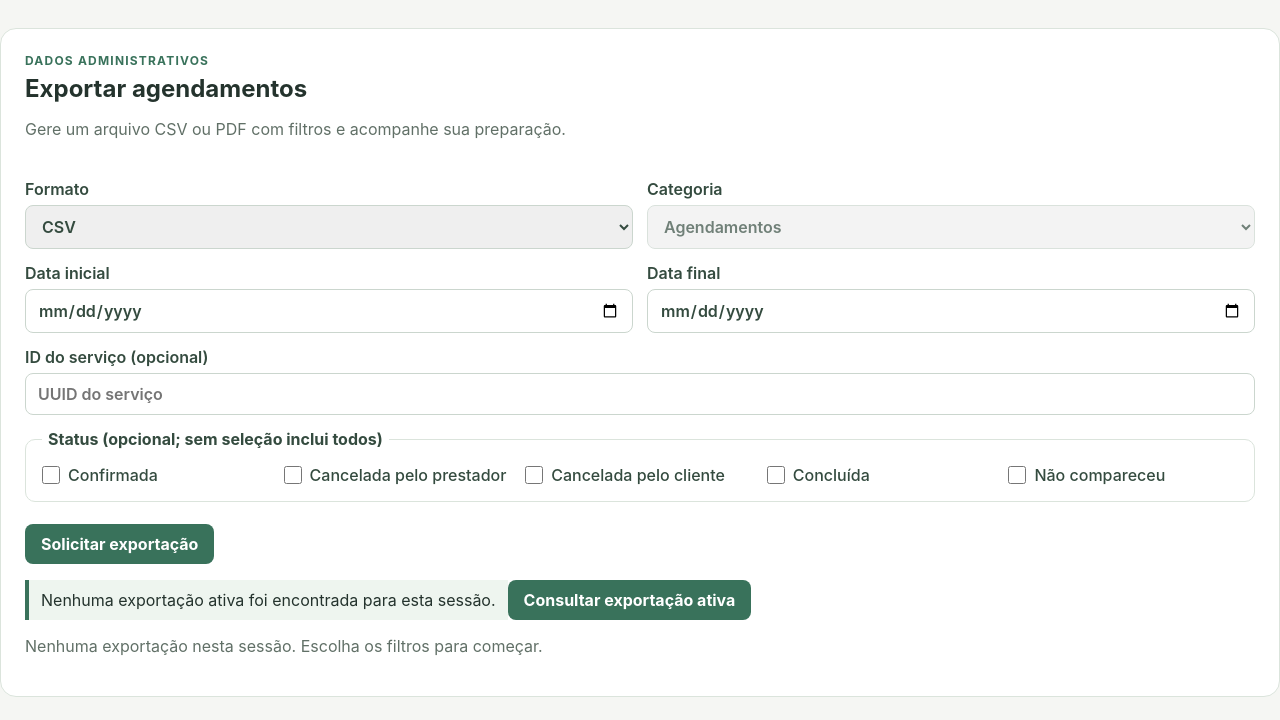
Scenario: ExportCenter DOM interactions › does not create another request when /active returns 204 after an active-job conflict
Type "2026-10-01" into the date field labelled "Data inicial" at (329, 311), box x1=25 y1=289 x2=633 y2=333
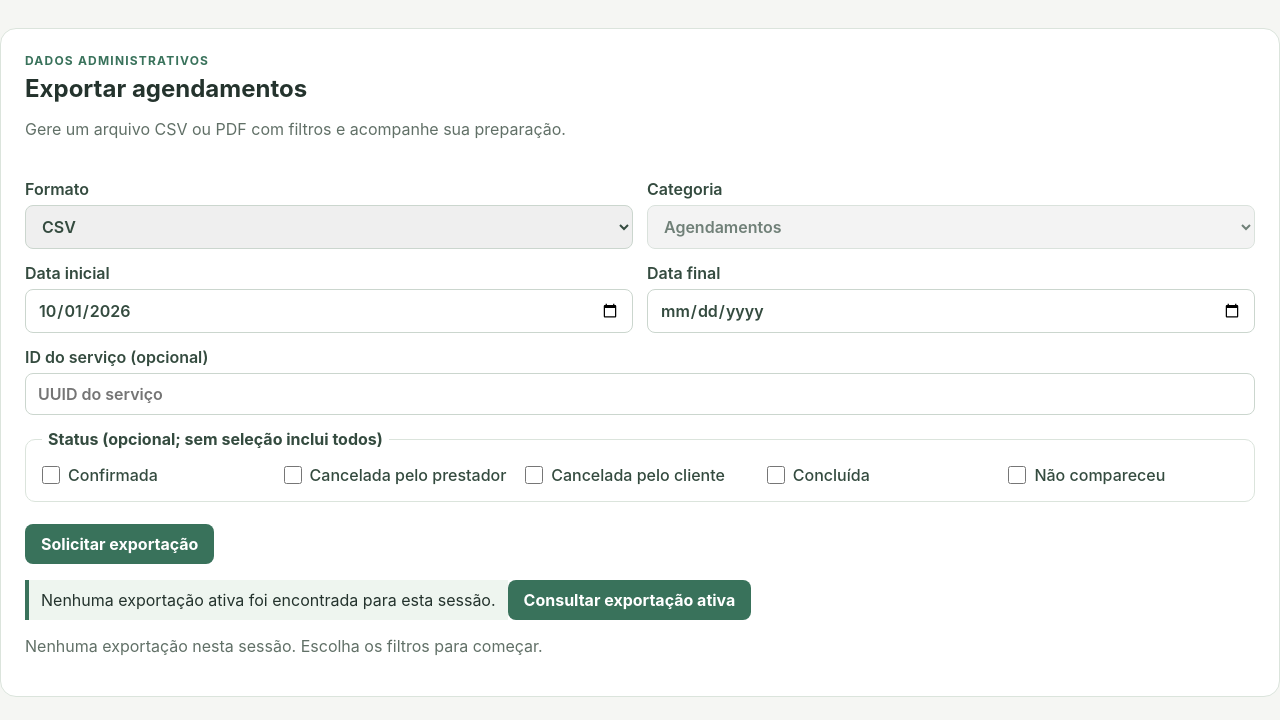
Type "2026-10-23" into the date field labelled "Data final" at (951, 311), box x1=647 y1=289 x2=1255 y2=333
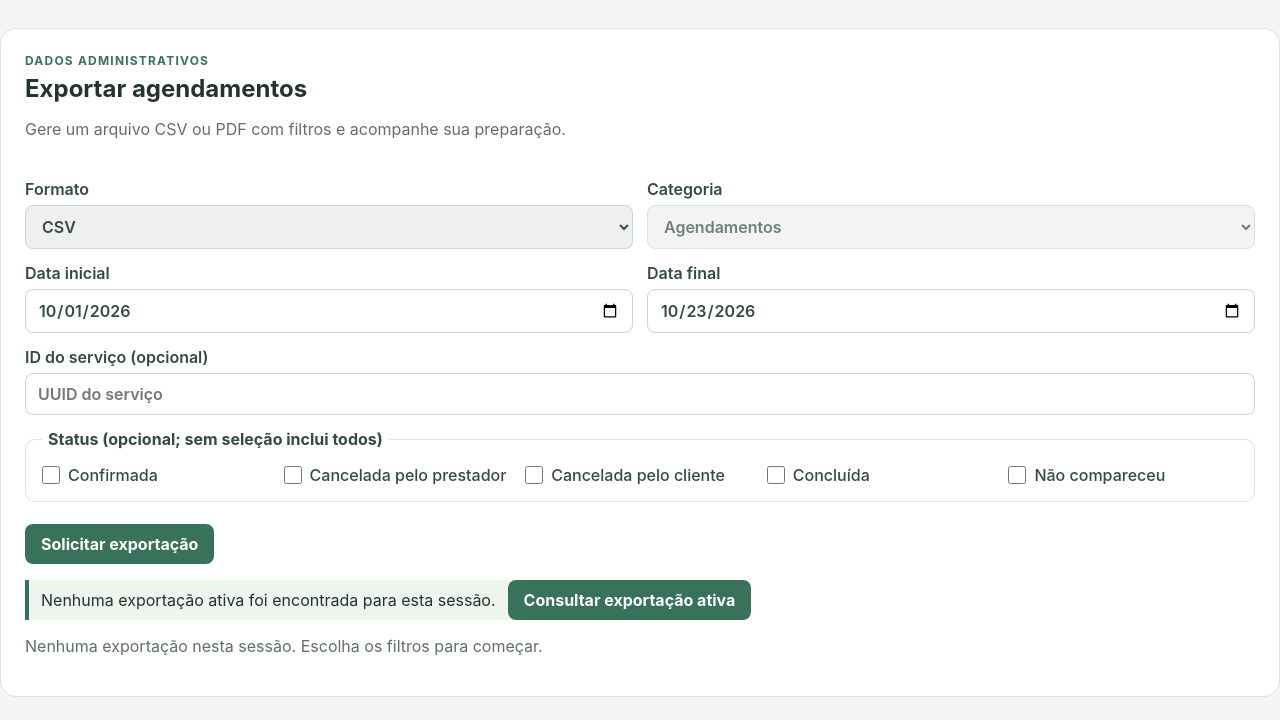
Click the button "Solicitar exportação" at (120, 544), box x1=25 y1=524 x2=214 y2=564
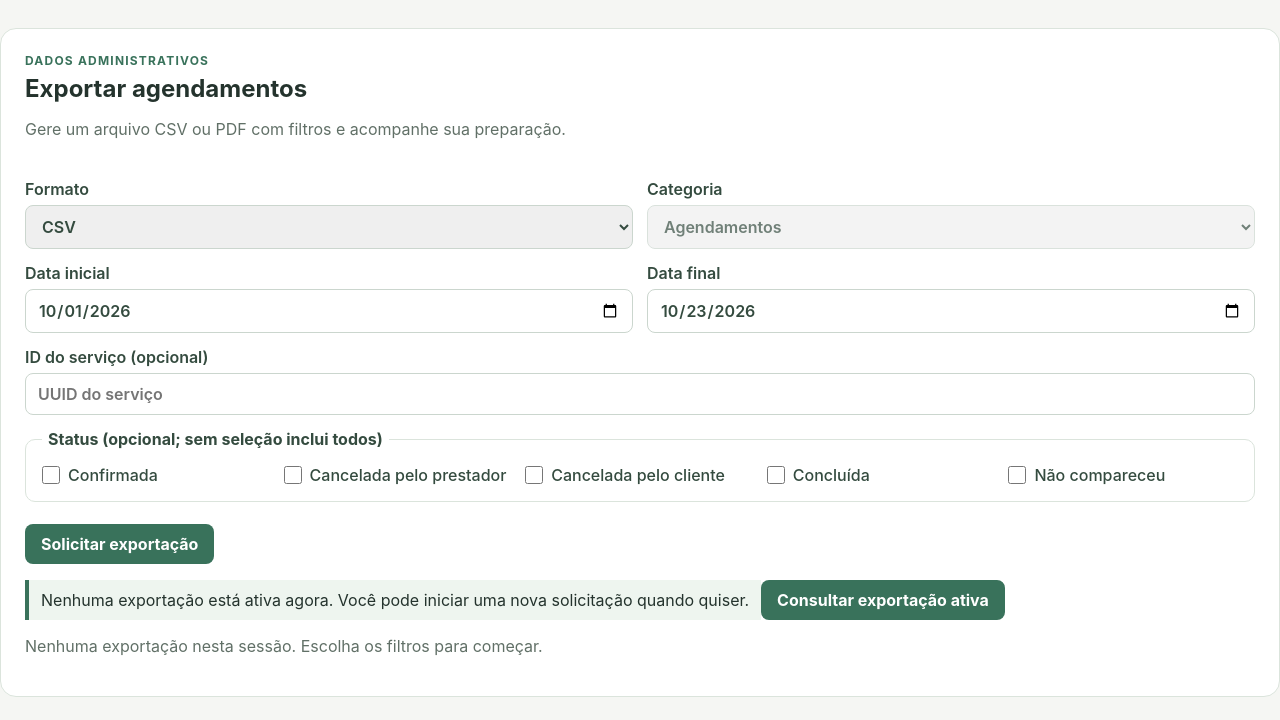
expect the text "Nenhuma exportação está ativa agora" is shown: met, box x1=41 y1=590 x2=749 y2=610
